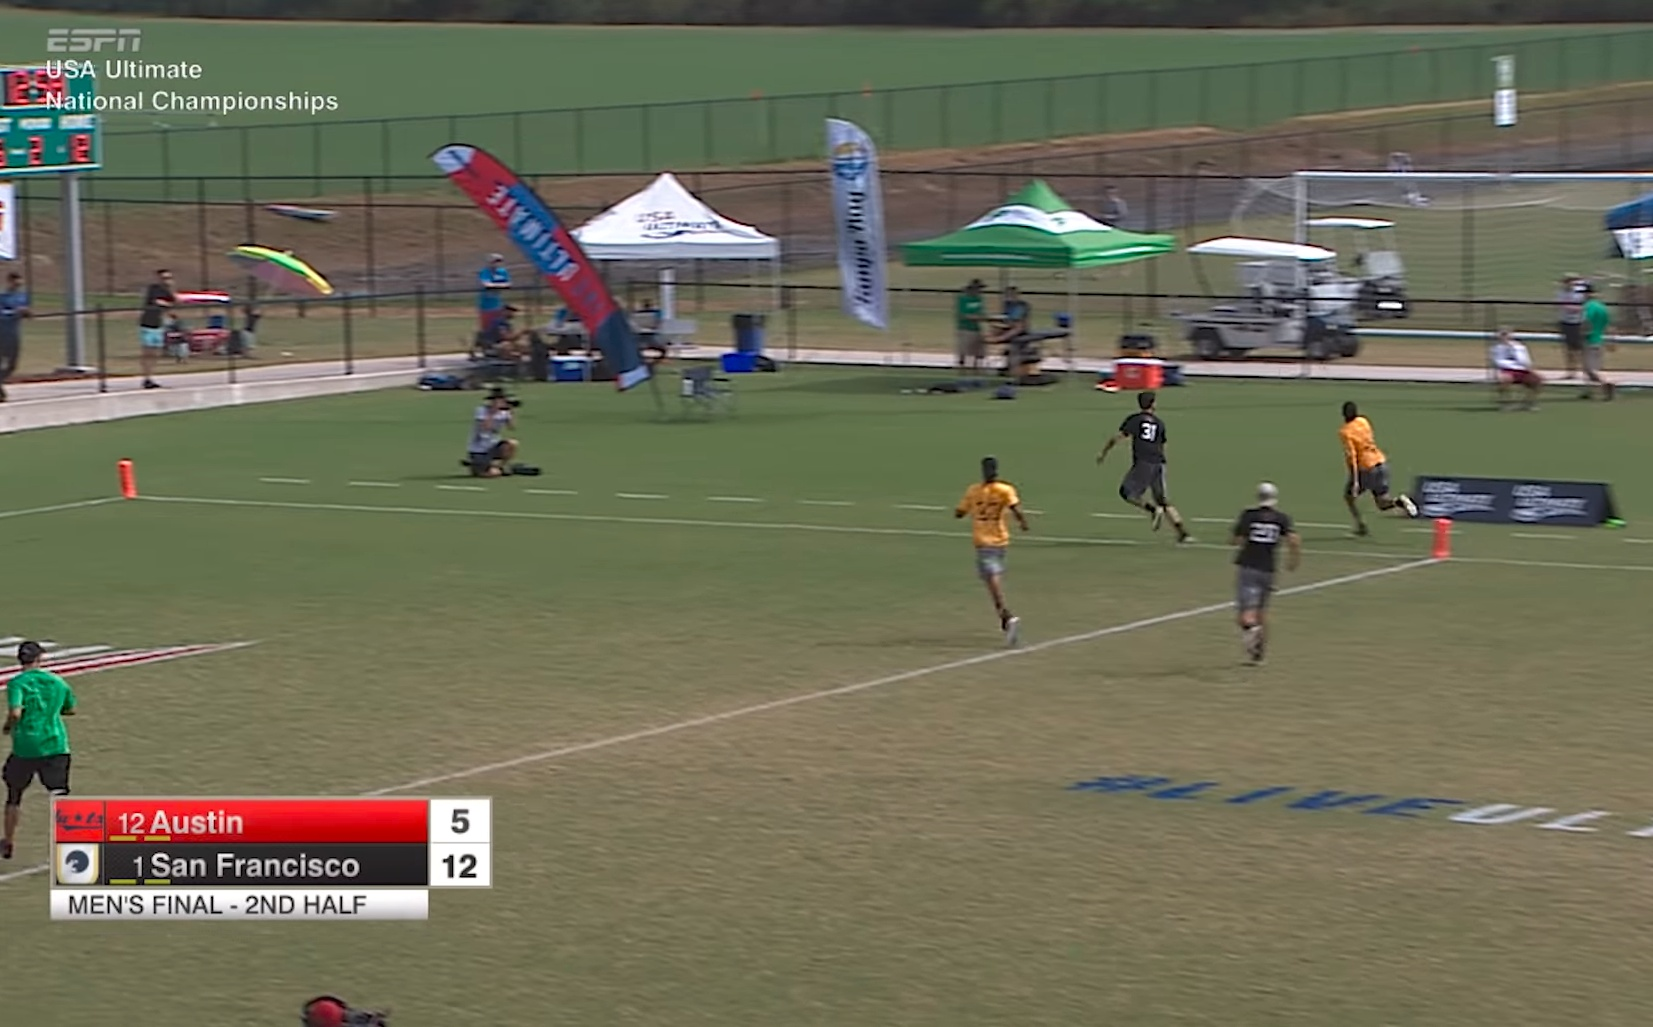frisbee: (1376, 301, 1403, 309)
